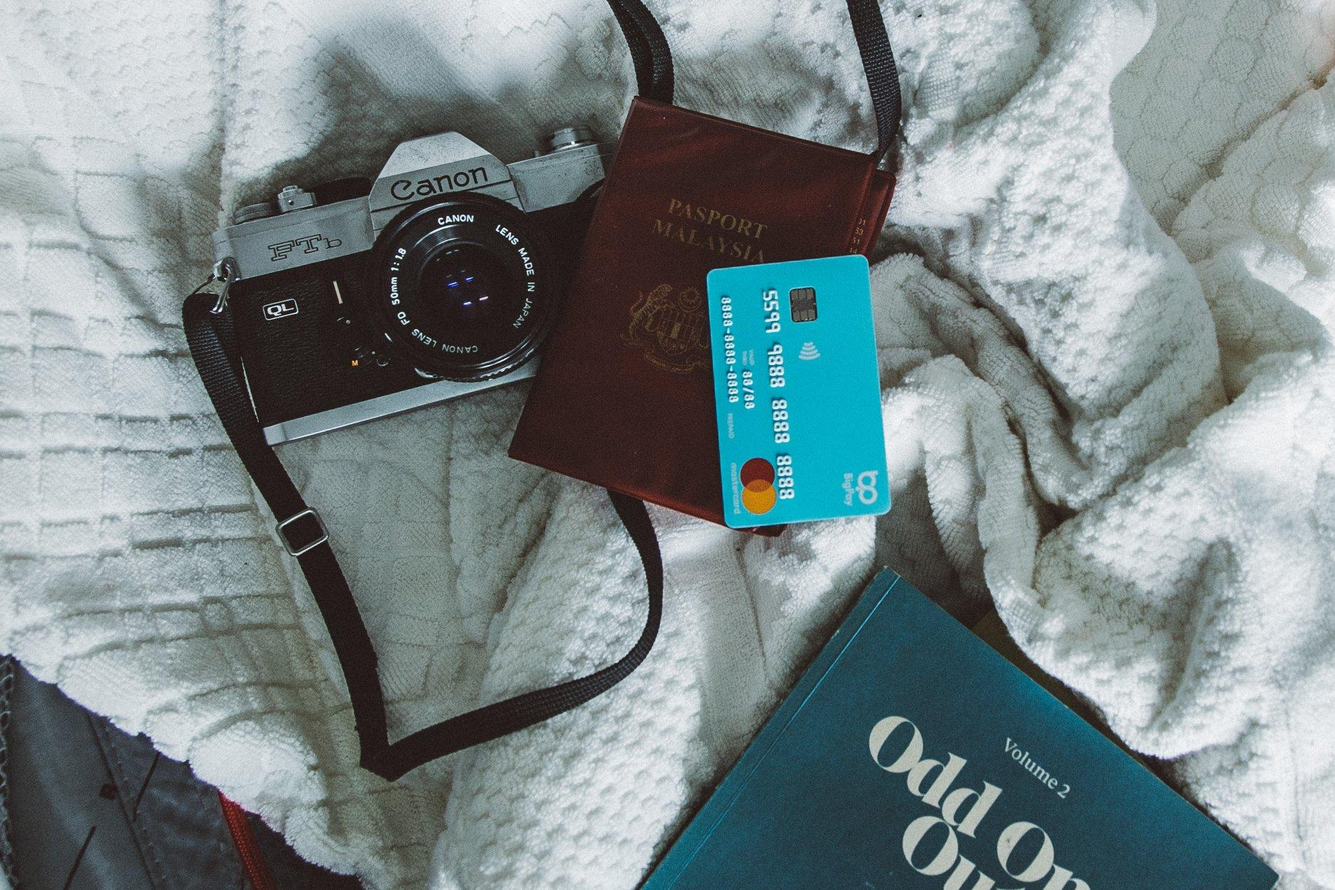Credit_card: (707, 255, 889, 528)
